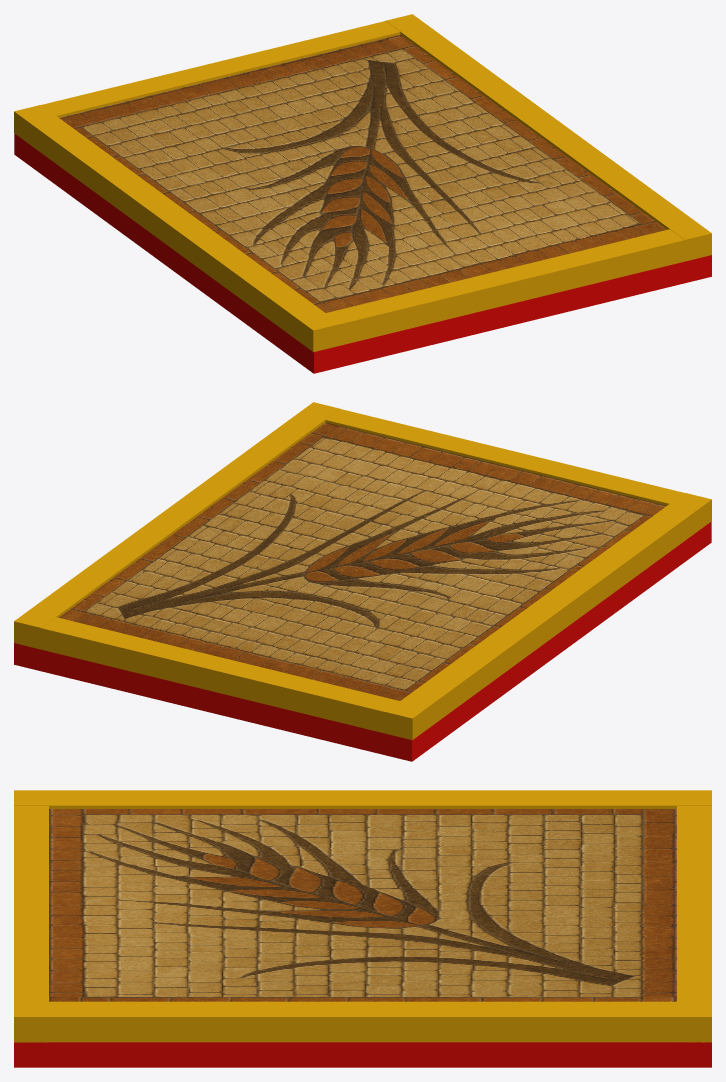
File: wheeeeatBox.fbx
The picture shows the model from 3 angles, top to bottom: view 1: azimuth 30°, elevation 25°; view 2: azimuth 150°, elevation 25°; view 3: azimuth 270°, elevation 25°; orthographic projection. The views are drawn at different scales.
Parts seen in each view (by area): view 1: Cube.029, Cube.009, Cube.011, Cube.012, Cube.013, Cube.020, Cube.008, Cube.015, Cube.019, Cube.010, Cube.014, Cube.018 (+14 smaller); view 2: Cube.029, Cube.009, Cube.007, Cube.015, Cube.016, Cube.018, Cube.010, Cube.013, Cube.019, Cube.008, Cube.020, Cube.014 (+14 smaller); view 3: Cube.029, Cube.013, Cube.015, Cube.008, Cube.010, Cube.018, Cube.020, Cube.023, Cube.025, Cube.007, Cube.009, Cube.011 (+14 smaller).
Boxes of the visible parts, left/top/right/bottom form: Cube.029: left=14, top=14, right=711, bottom=373; Cube.009: left=371, top=130, right=492, bottom=186; Cube.011: left=263, top=51, right=384, bottom=107; Cube.012: left=194, top=68, right=316, bottom=124; Cube.013: left=248, top=107, right=370, bottom=163; Cube.020: left=179, top=124, right=301, bottom=180; Cube.008: left=425, top=169, right=546, bottom=225; Cube.015: left=356, top=186, right=477, bottom=242; Cube.019: left=233, top=164, right=355, bottom=219; Cube.010: left=317, top=90, right=439, bottom=146; Cube.014: left=302, top=147, right=424, bottom=202; Cube.018: left=287, top=203, right=408, bottom=259; Cube.029: left=14, top=402, right=711, bottom=761; Cube.009: left=233, top=518, right=354, bottom=574; Cube.007: left=341, top=439, right=462, bottom=495; Cube.015: left=355, top=495, right=477, bottom=551; Cube.016: left=409, top=456, right=531, bottom=512; Cube.018: left=424, top=512, right=546, bottom=568; Cube.010: left=179, top=557, right=300, bottom=613; Cube.013: left=248, top=574, right=369, bottom=630; Cube.019: left=370, top=552, right=492, bottom=607; Cube.008: left=286, top=478, right=408, bottom=534; Cube.020: left=317, top=591, right=438, bottom=647; Cube.014: left=301, top=535, right=423, bottom=590; Cube.029: left=14, top=790, right=711, bottom=1067; Cube.013: left=425, top=887, right=551, bottom=926; Cube.015: left=174, top=887, right=300, bottom=926; Cube.008: left=174, top=926, right=300, bottom=965; Cube.010: left=425, top=926, right=551, bottom=965; Cube.018: left=174, top=848, right=300, bottom=887; Cube.020: left=425, top=848, right=551, bottom=887; Cube.023: left=174, top=809, right=300, bottom=848; Cube.025: left=425, top=809, right=551, bottom=848; Cube.007: left=49, top=926, right=174, bottom=965; Cube.009: left=300, top=926, right=425, bottom=965; Cube.011: left=551, top=926, right=676, bottom=965.
Bounding box in the file's own units: 428 × 44.53 × 557.
